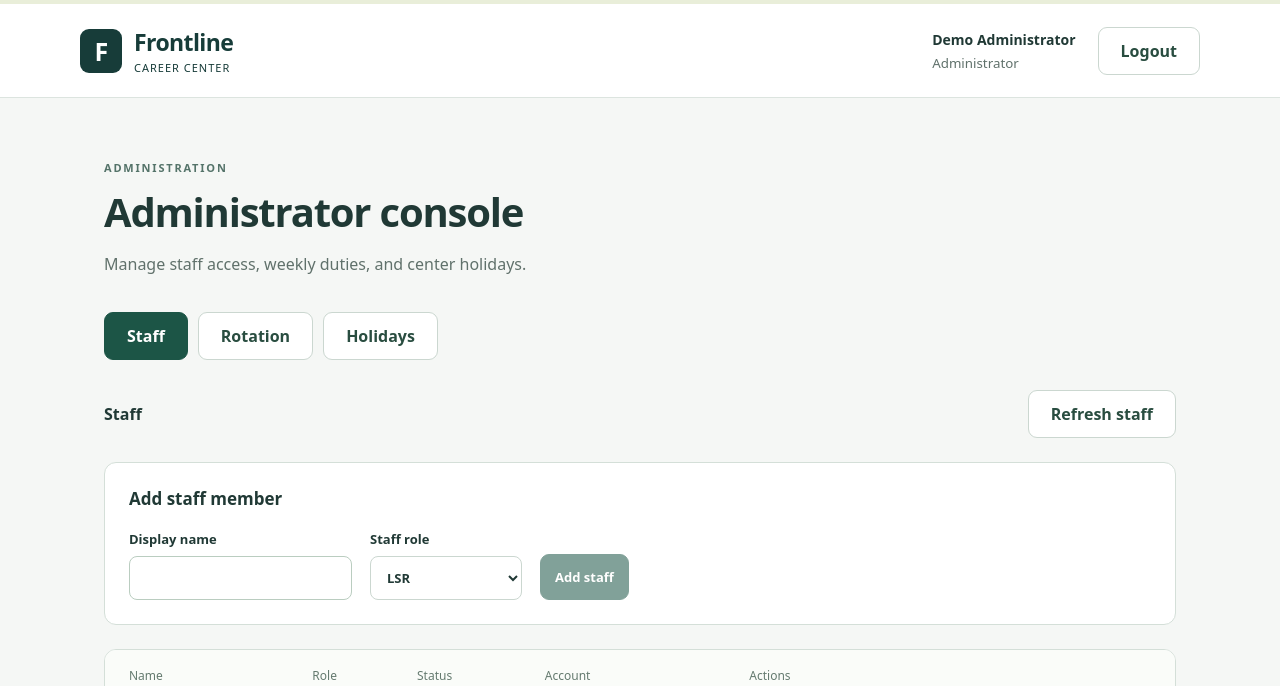
Test: holidays list upcoming dates, can show past dates, and support add/remove
The image size is (1280, 686).
Click the button "Holidays" at (380, 336), box [323,312,438,360]
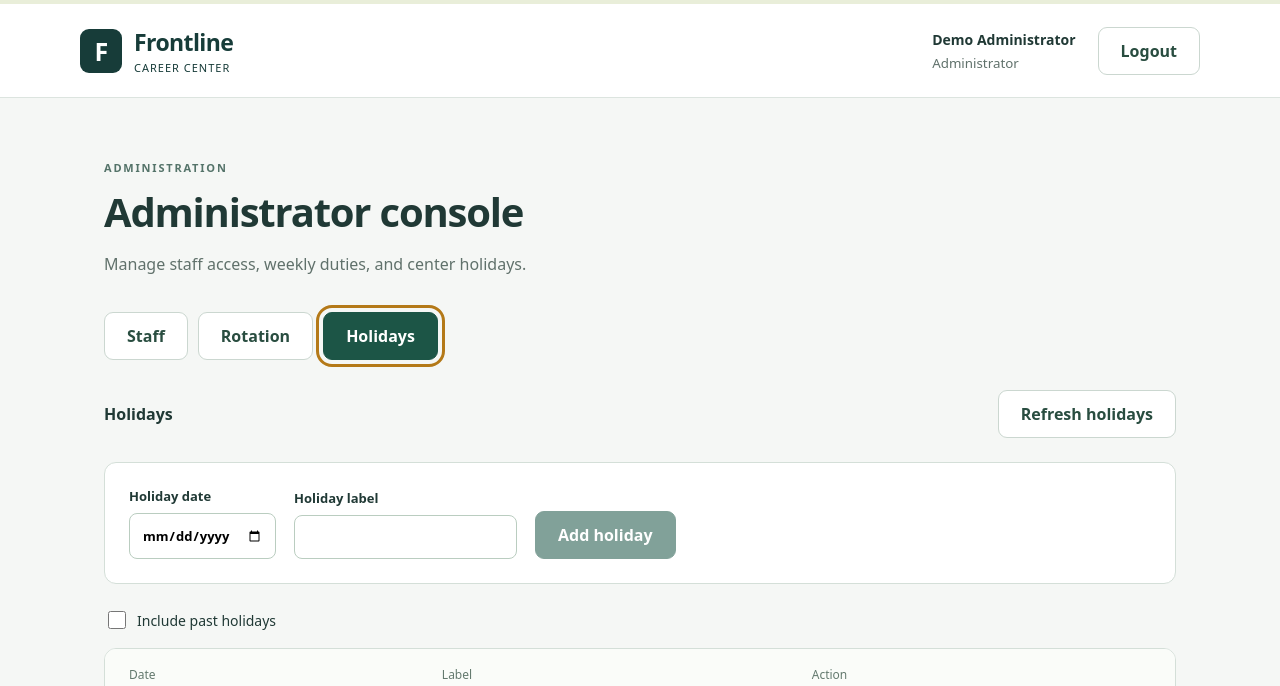
Expected: the text "Labor Day" is not shown
Click the checkbox labelled "Include past holidays" at (117, 620), box [108,611,126,629]
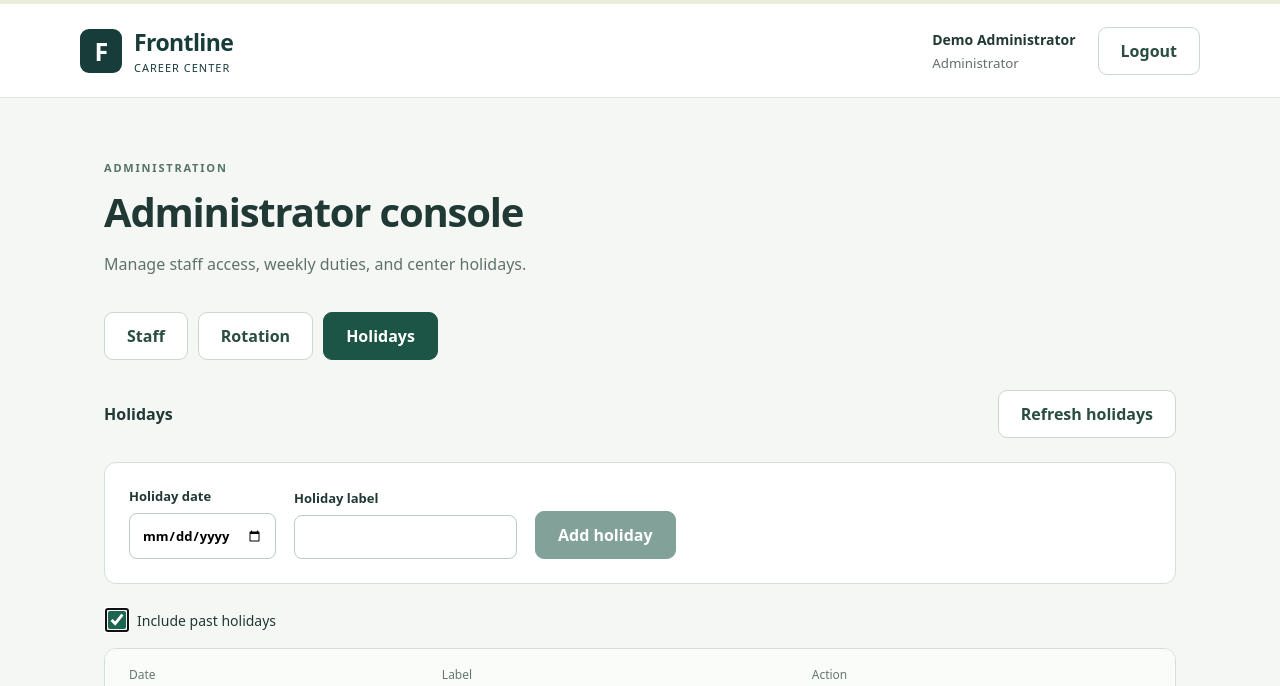
Type "2026-12-24" into the date field labelled "Holiday date" at (202, 536), box [129,513,276,559]
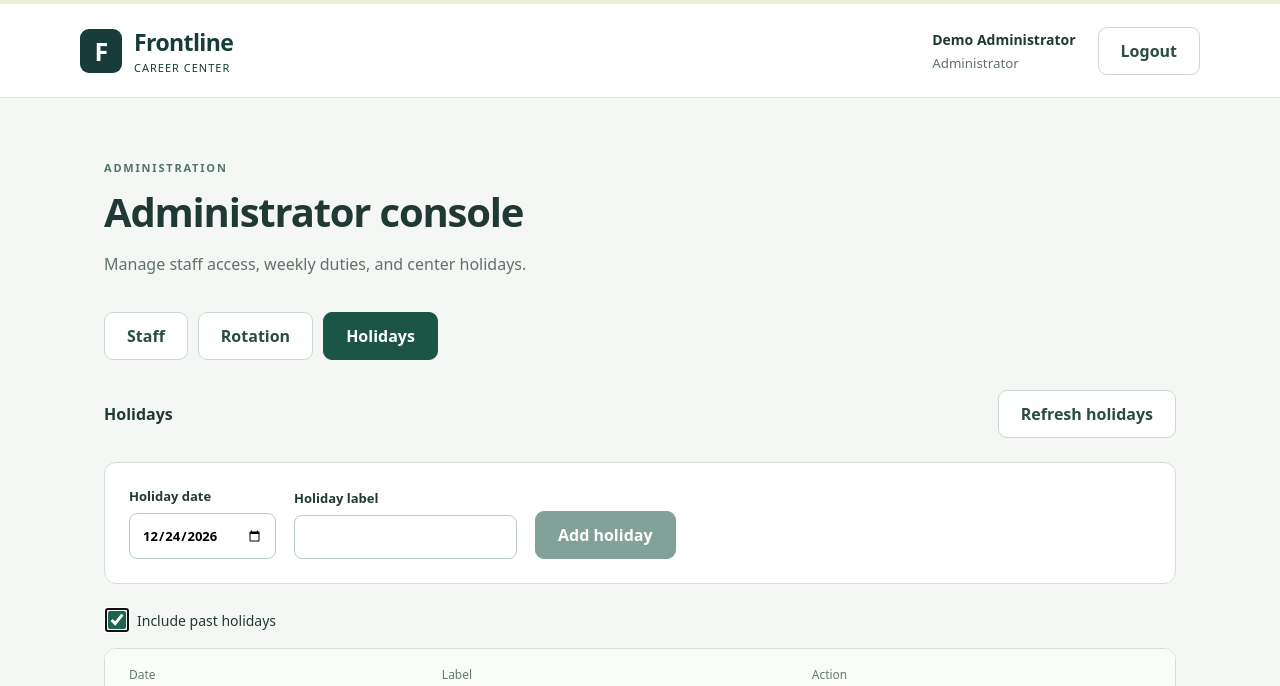
Type "Demo closure" into the field labelled "Holiday label" at (406, 537), box [294,515,517,559]
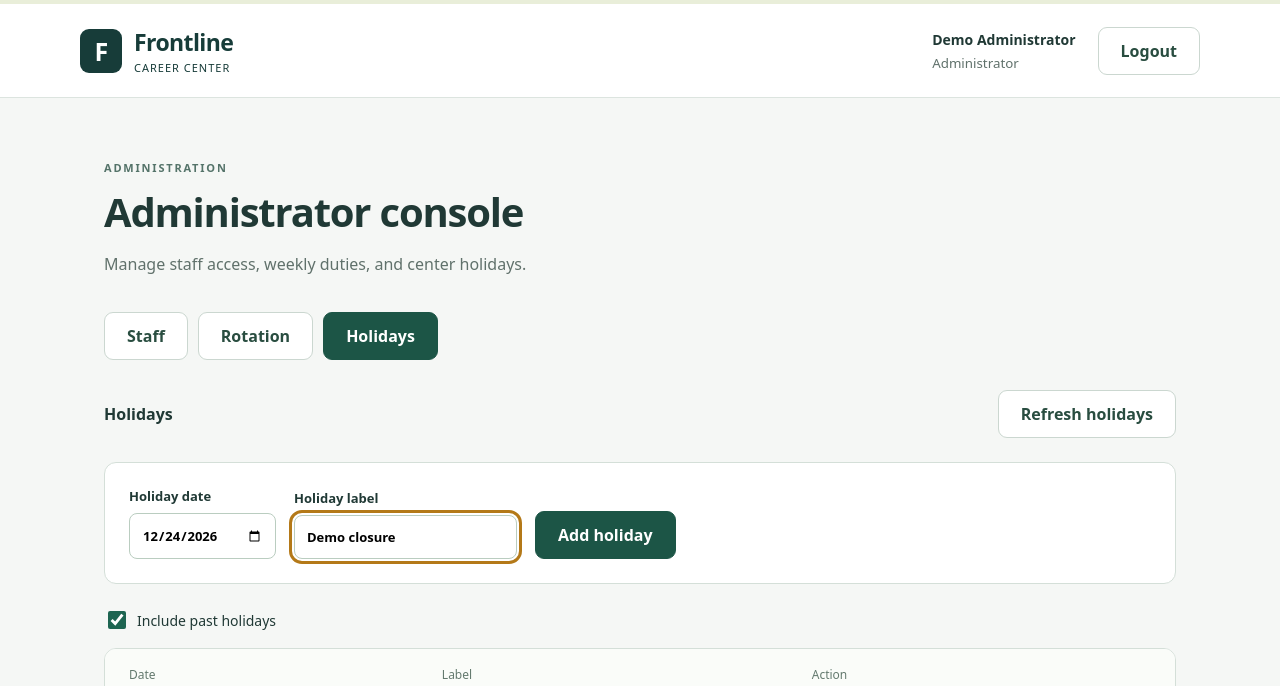
Click the button "Add holiday" at (605, 535), box [535,511,676,559]
(page scrolled)
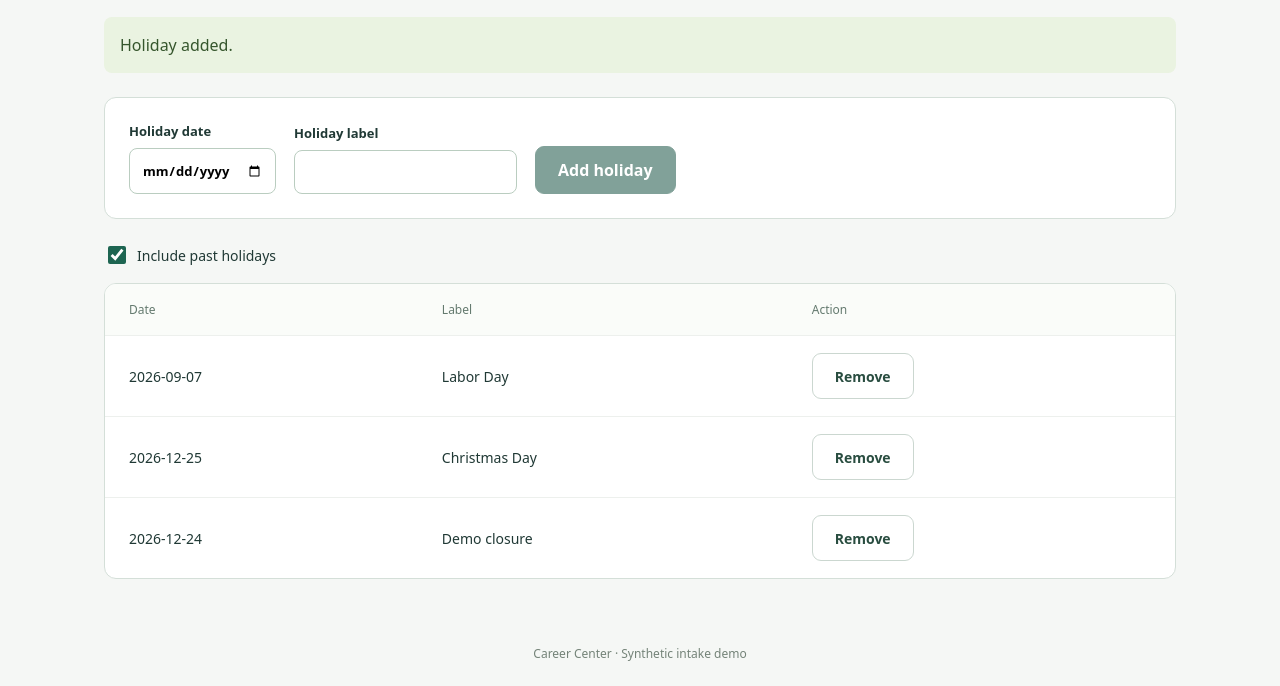
Result: the text "Demo closure" is shown at [418,498,788,578]
Click the button with aria-label "Remove Demo closure on 2026-12-24" at (863, 538), box [812,515,914,561]
(page scrolled)
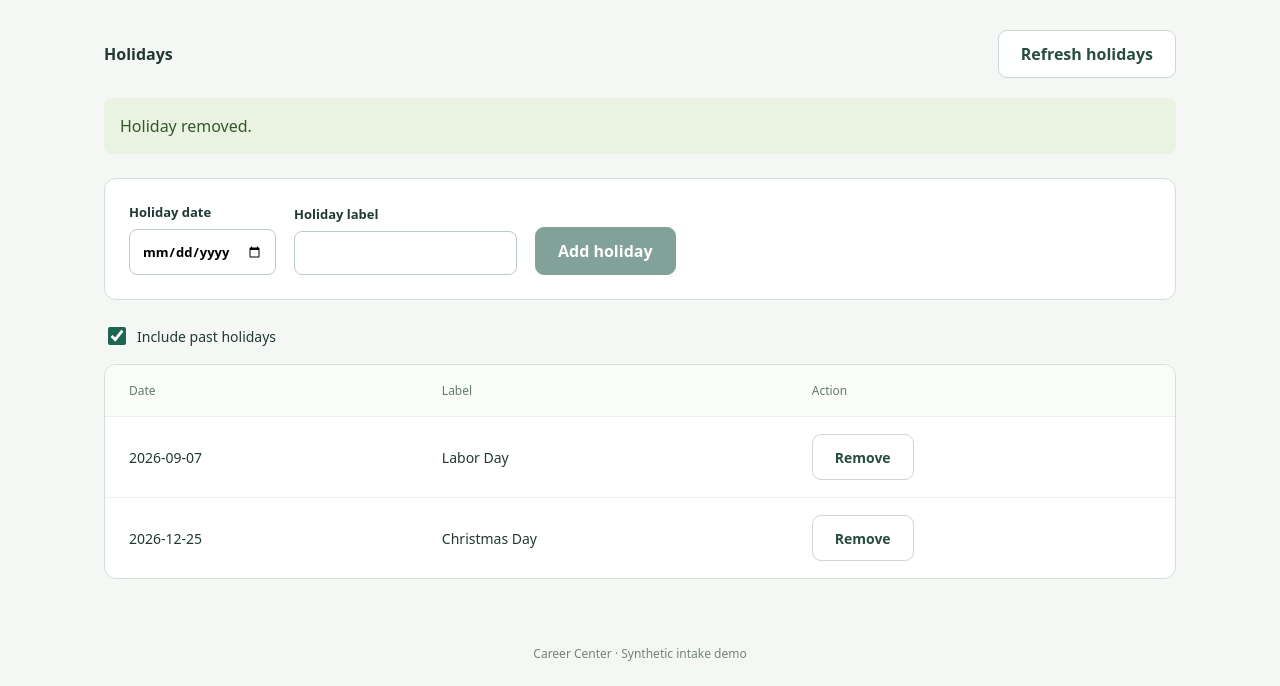
Result: the text "Holiday removed." is shown at [104,98,1176,154]
Result: the text "Demo closure" is gone
